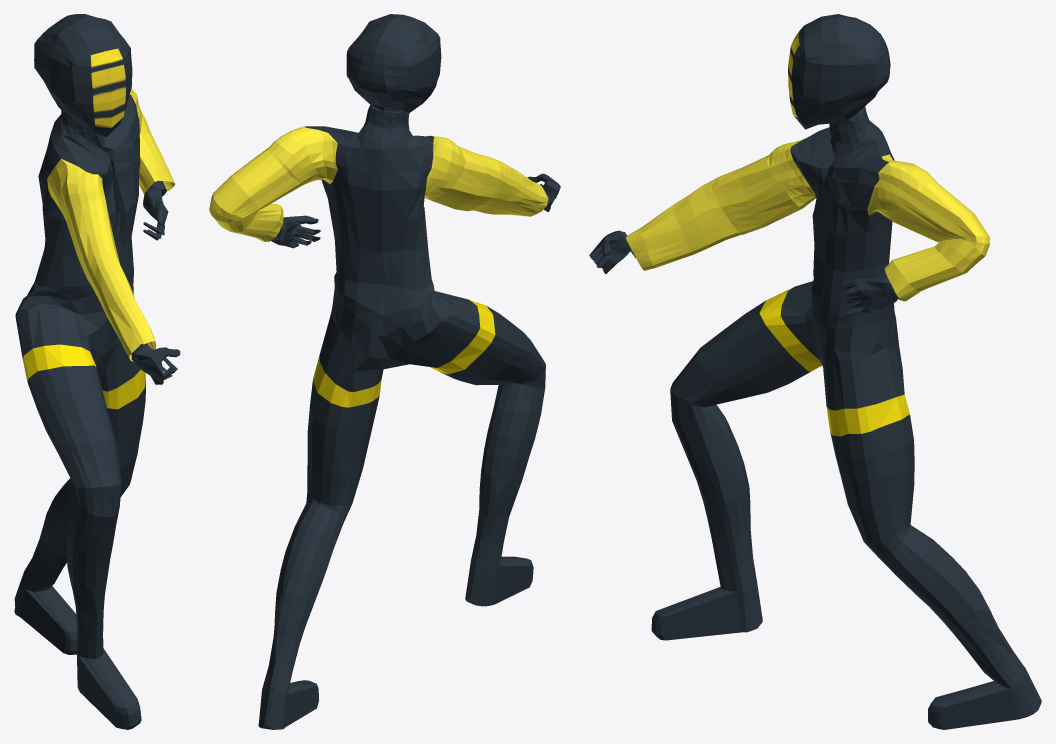
Rendered from Sentry_WB_000006.obj.
3 renders of one model, left to right at view 1: azimuth 30°, elevation 25°; view 2: azimuth 150°, elevation 25°; view 3: azimuth 270°, elevation 25°, orthographic. The views are drawn at different scales.
Visible parts, largest first — view 1: Cube; view 2: Cube; view 3: Cube.
Boxes of the visible parts, x1,y1,x2,y2 form: Cube: (14, 14, 180, 729); Cube: (209, 14, 560, 729); Cube: (589, 14, 1041, 729).
Bounding box in the file's own units: 1.19 × 3.75 × 2.24.
